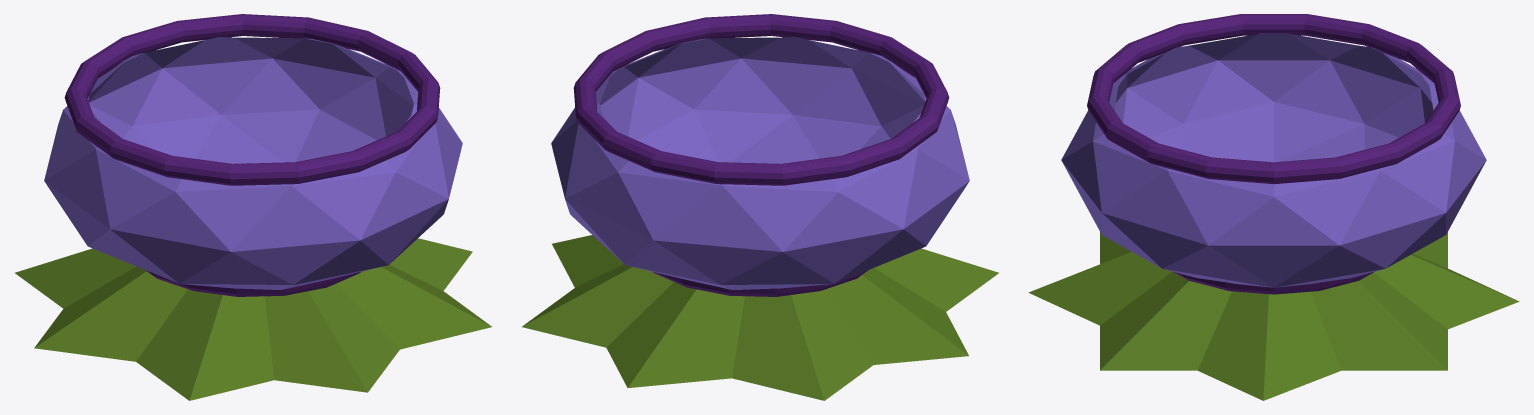
The model's file is item_drop_cumbuca.fbx.
The picture shows the model from 3 angles, left to right: view 1: azimuth 30°, elevation 25°; view 2: azimuth 150°, elevation 25°; view 3: azimuth 270°, elevation 25°; orthographic projection.
Visible parts, largest first — view 1: Icosphere; view 2: Icosphere; view 3: Icosphere.
Boxes of the visible parts, bbox=[...] form: Icosphere: bbox=[15, 14, 491, 400]; Icosphere: bbox=[522, 14, 998, 400]; Icosphere: bbox=[1028, 14, 1519, 400].
Size of the model in its own units: 1.94 by 0.9086 by 1.94.
